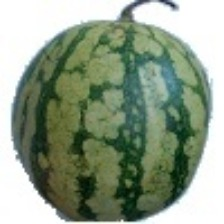watermelon: (24, 36, 206, 171)
